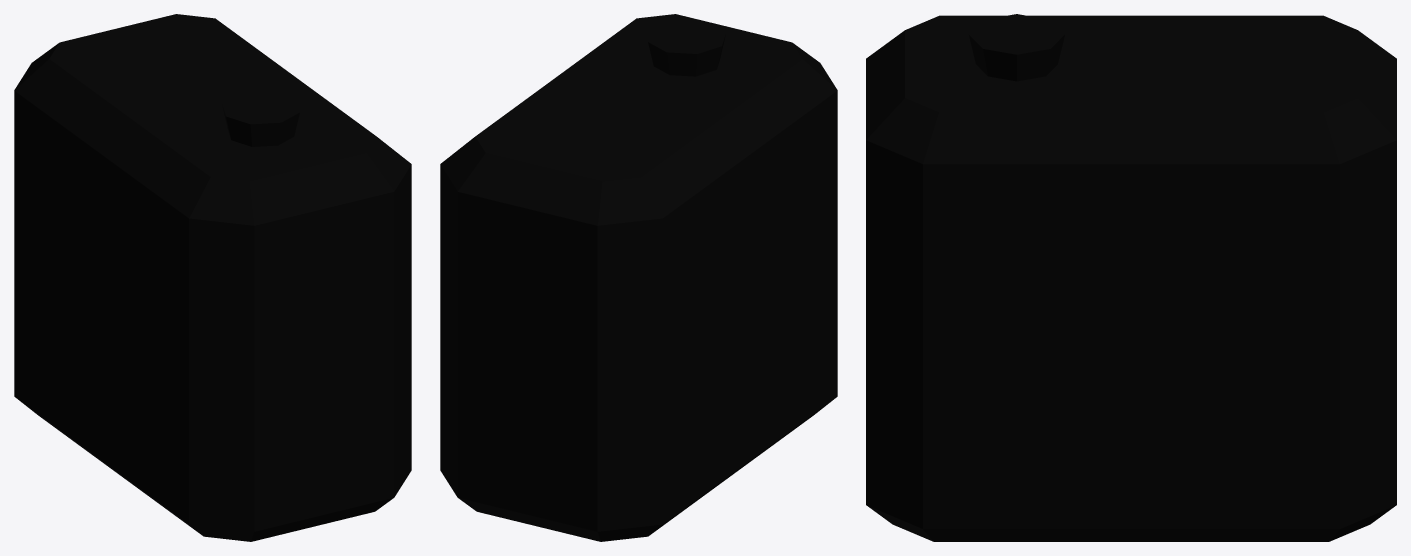
The model's file is Technology2.fbx.
The picture shows the model from 3 angles, left to right: view 1: azimuth 30°, elevation 25°; view 2: azimuth 150°, elevation 25°; view 3: azimuth 270°, elevation 25°; orthographic projection. The views are drawn at different scales.
Visible parts, largest first — view 1: Technology2; view 2: Technology2; view 3: Technology2.
Boxes of the visible parts, left/top/right/bottom form: Technology2: left=14, top=14, right=411, bottom=541; Technology2: left=440, top=14, right=837, bottom=541; Technology2: left=866, top=14, right=1396, bottom=541.
Bounding box in the file's own units: 36.37 × 59.41 × 62.95.
